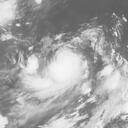cyclone: (44, 48, 87, 89)
